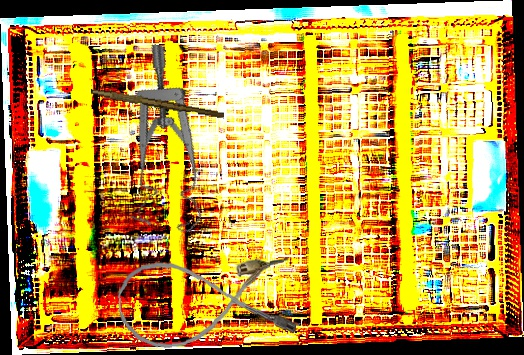Cannula: (116, 253, 297, 351)
Scalpel Handle: (90, 88, 225, 120)
Speculum: (95, 42, 250, 241)
